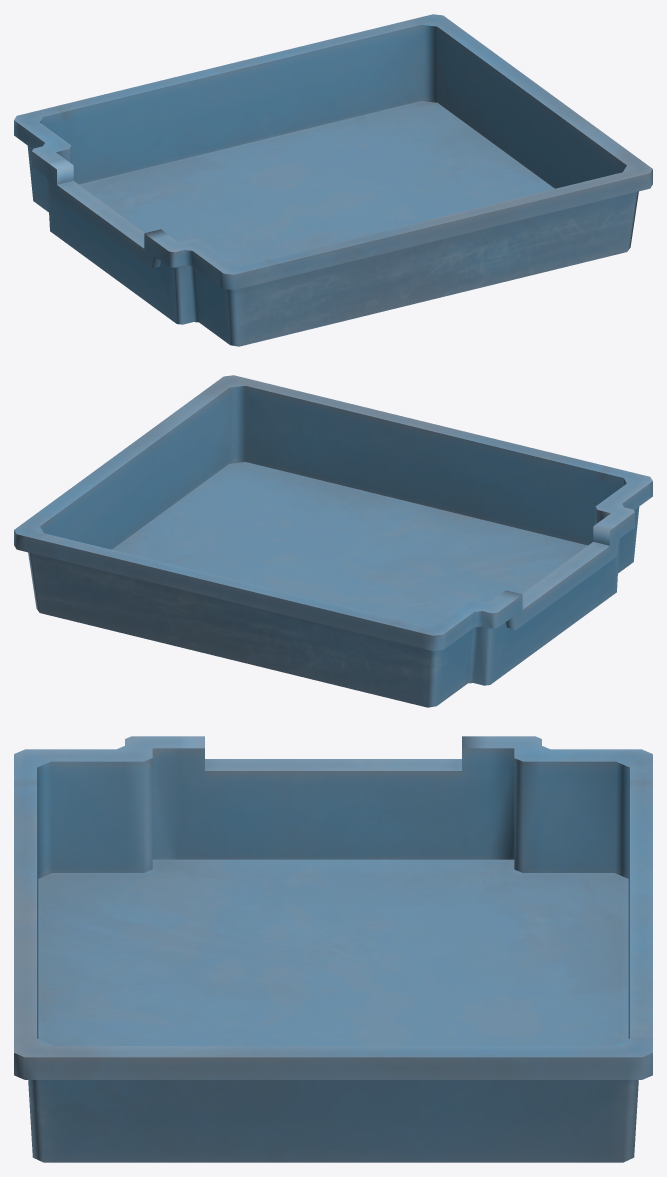
Rendered from SM_Shelf_03d.fbx.
The picture shows the model from 3 angles, top to bottom: view 1: azimuth 30°, elevation 25°; view 2: azimuth 150°, elevation 25°; view 3: azimuth 270°, elevation 25°; orthographic projection. The views are drawn at different scales.
Visible parts, largest first — view 1: SM_Shelf_03d_LOD0; view 2: SM_Shelf_03d_LOD0; view 3: SM_Shelf_03d_LOD0.
Part boxes in pixels (bbox=[...]): SM_Shelf_03d_LOD0: bbox=[14, 14, 652, 346]; SM_Shelf_03d_LOD0: bbox=[14, 375, 652, 707]; SM_Shelf_03d_LOD0: bbox=[14, 736, 652, 1162].
Size of the model in its own units: 44.91 by 37.76 by 7.61.
Materials: 1 (1 with a texture image).
